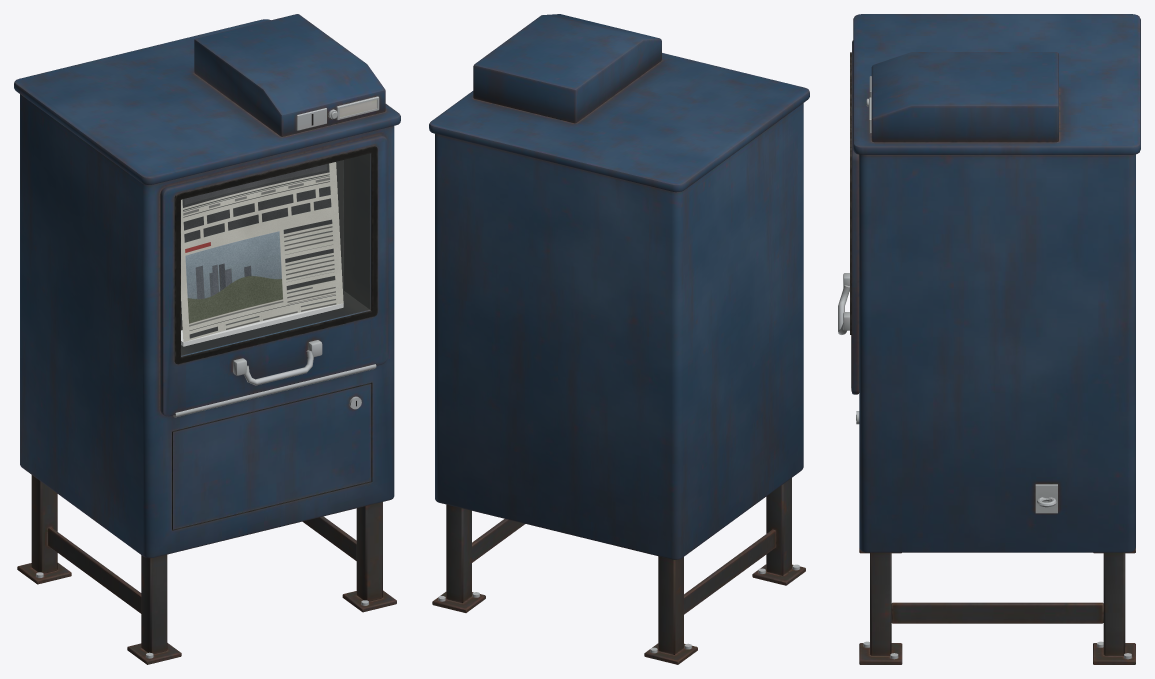
File: g3-newspaper-stand.glb
3 renders of one model, left to right at view 1: azimuth 30°, elevation 25°; view 2: azimuth 150°, elevation 25°; view 3: azimuth 270°, elevation 25°, orthographic. The views are drawn at different scales.
Visible parts, largest first — view 1: newspaper-stand_body, newspaper-stand_window_glass, newspaper-stand_newspaper_paper, newspaper-stand_paper_stack; view 2: newspaper-stand_body; view 3: newspaper-stand_body.
Boxes of the visible parts, box(x1,y1,x2,y2) form: newspaper-stand_body: box(14, 14, 400, 664); newspaper-stand_window_glass: box(181, 154, 370, 356); newspaper-stand_newspaper_paper: box(181, 162, 343, 342); newspaper-stand_paper_stack: box(181, 303, 343, 346); newspaper-stand_body: box(429, 14, 809, 664); newspaper-stand_body: box(838, 14, 1140, 664).
Bounding box in the file's own units: 0.538 × 1 × 0.4925.
4 materials, 2 textured.
